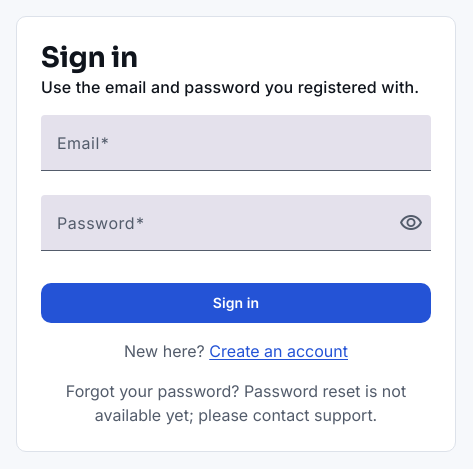
LoginComponent › shows field errors instead of submitting an invalid form
Type "not-an-email" into the field labelled "Email". click: (236, 151)
box: x1=57 y1=139 x2=415 y2=163
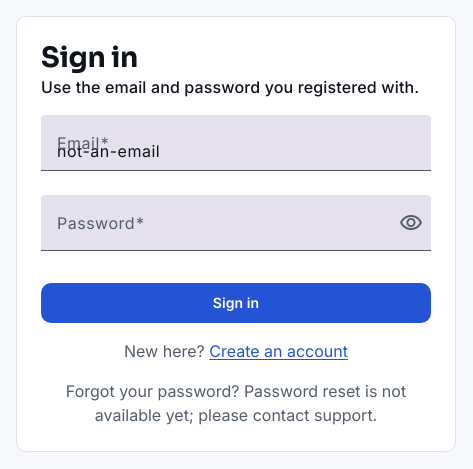
Click the submit button. click: click(236, 303)
box: x1=41 y1=283 x2=431 y2=323
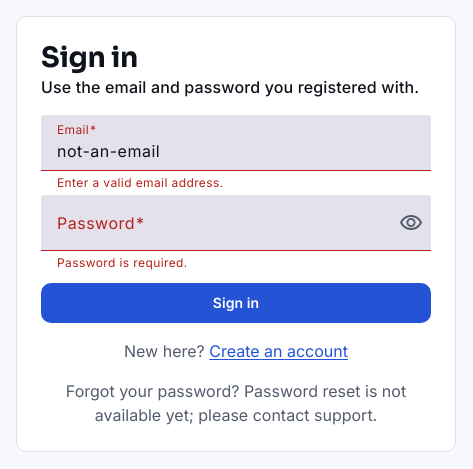
Check: the text "Enter a valid email address." is shown, box x1=57 y1=175 x2=224 y2=190
Check: the text "Password is required." is shown, box x1=57 y1=255 x2=188 y2=270
